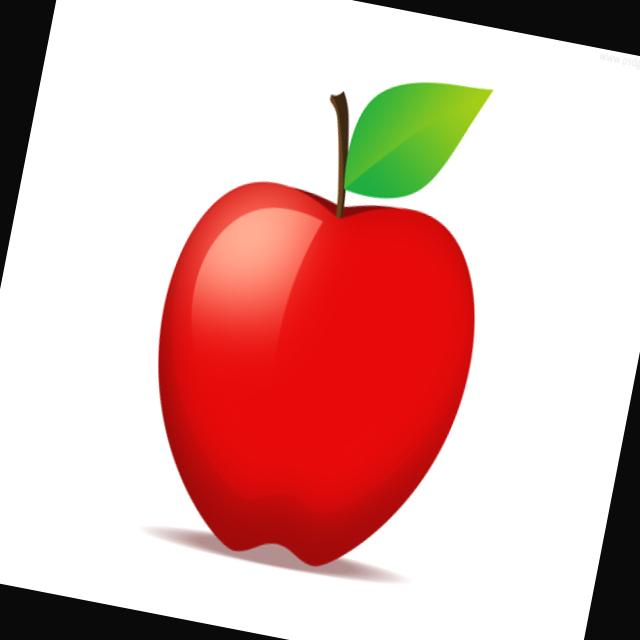apple: (105, 158, 514, 602)
